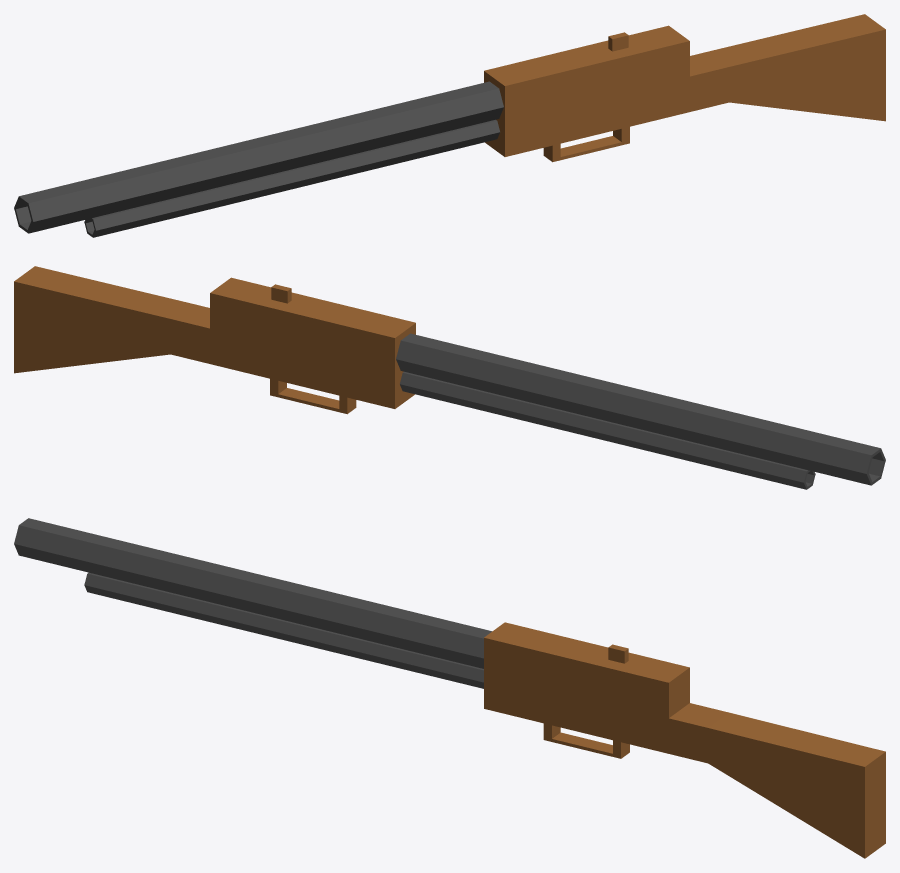
The model's file is gun.fbx.
The picture shows the model from 3 angles, top to bottom: view 1: azimuth 30°, elevation 25°; view 2: azimuth 150°, elevation 25°; view 3: azimuth 330°, elevation 25°; orthographic projection.
Visible parts, largest first — view 1: Cube, Cylinder, Cylinder.001; view 2: Cube, Cylinder, Cylinder.001; view 3: Cube, Cylinder, Cylinder.001.
Boxes of the visible parts, box(x1,y1,x2,y2) form: Cube: box(484, 14, 885, 162); Cylinder: box(14, 81, 503, 233); Cylinder.001: box(84, 119, 499, 237); Cube: box(14, 266, 415, 414); Cylinder: box(396, 333, 885, 485); Cylinder.001: box(400, 371, 815, 489); Cube: box(484, 622, 885, 858); Cylinder: box(14, 518, 491, 668); Cylinder.001: box(84, 572, 483, 688).
Bounding box in the file's own units: 1965 × 310 × 84.04.
